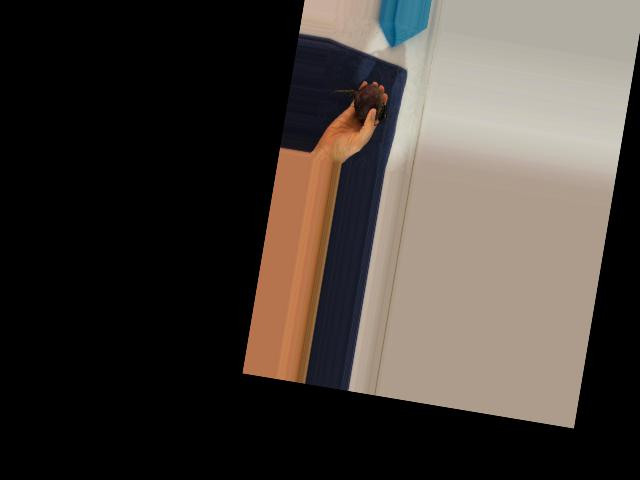beet: (327, 78, 391, 127)
